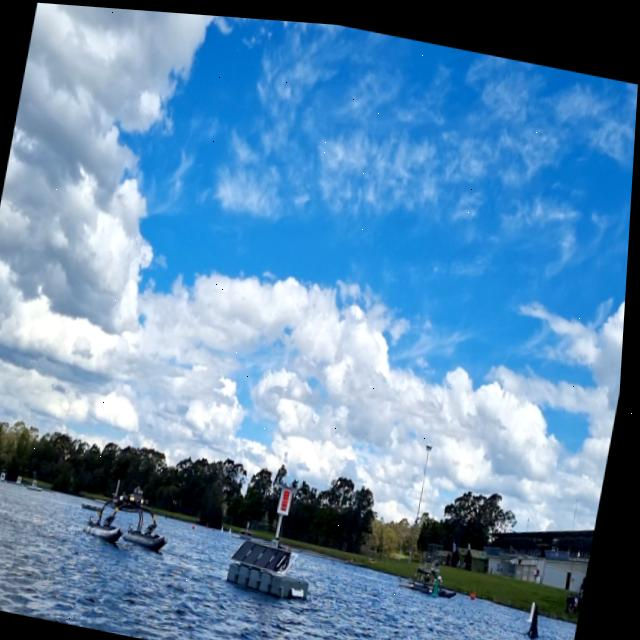led: (285, 483, 297, 509)
